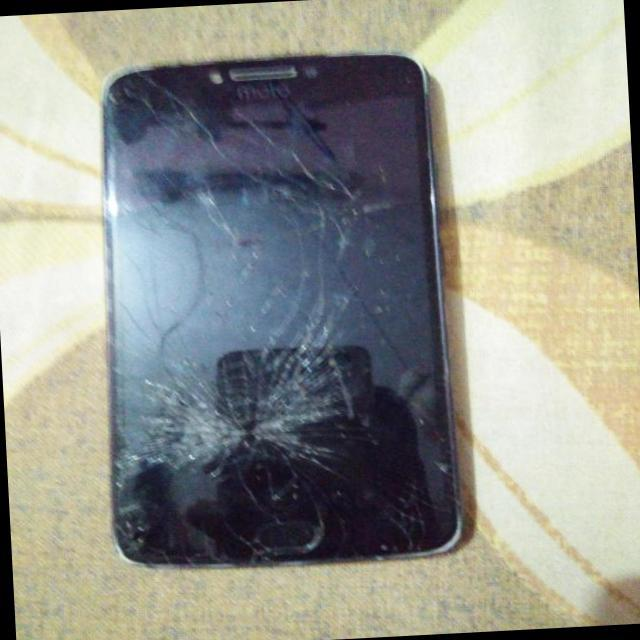Crack: (144, 115, 389, 322), (147, 347, 373, 519)
